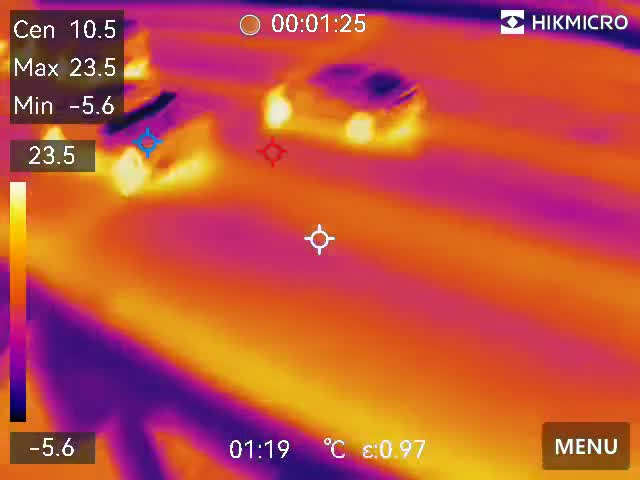smallCar: (257, 68, 451, 124)
